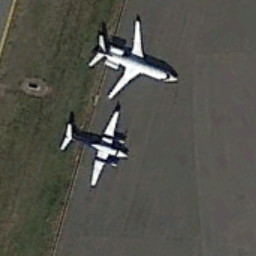Airplane: (70, 7, 189, 103), (50, 107, 141, 196)
